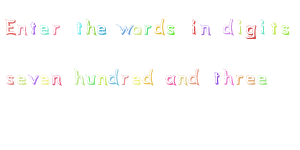E: (3, 18, 17, 35)
a: (165, 74, 177, 85)
d: (107, 68, 120, 85), (222, 17, 234, 35), (188, 67, 200, 85), (154, 16, 165, 35), (142, 68, 154, 85)
e: (245, 73, 256, 86), (257, 73, 268, 86), (16, 73, 27, 85), (96, 24, 107, 35), (131, 74, 141, 86), (40, 73, 50, 84), (39, 24, 49, 34)
g: (244, 24, 257, 40)
h: (223, 67, 234, 85), (86, 18, 96, 35), (75, 69, 85, 85)
i: (189, 18, 198, 34), (236, 18, 244, 35), (259, 17, 266, 35)
n: (199, 23, 212, 36), (51, 74, 63, 86), (16, 24, 28, 35), (97, 74, 108, 85), (177, 74, 188, 85)
o: (132, 24, 142, 35)
r: (51, 24, 60, 36), (120, 74, 129, 85), (144, 24, 152, 36), (235, 74, 243, 86)
s: (5, 73, 15, 85), (281, 23, 290, 35), (166, 24, 175, 35)
t: (29, 21, 37, 35), (270, 21, 278, 35), (213, 72, 221, 85), (75, 21, 82, 34)
u: (86, 74, 96, 85)
v: (27, 73, 40, 85)
w: (115, 23, 133, 35)
